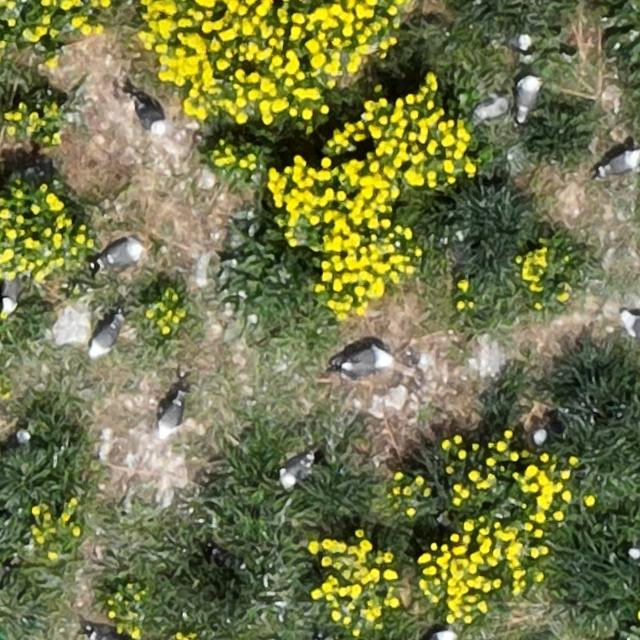umineko: (101, 239, 143, 265), (343, 347, 387, 370), (516, 76, 538, 118), (91, 319, 118, 353), (514, 425, 550, 450), (136, 100, 164, 132), (283, 458, 311, 487), (602, 152, 638, 174), (159, 398, 182, 432), (506, 31, 532, 56), (3, 278, 20, 311), (622, 312, 640, 337), (422, 629, 453, 639), (628, 546, 640, 568)
